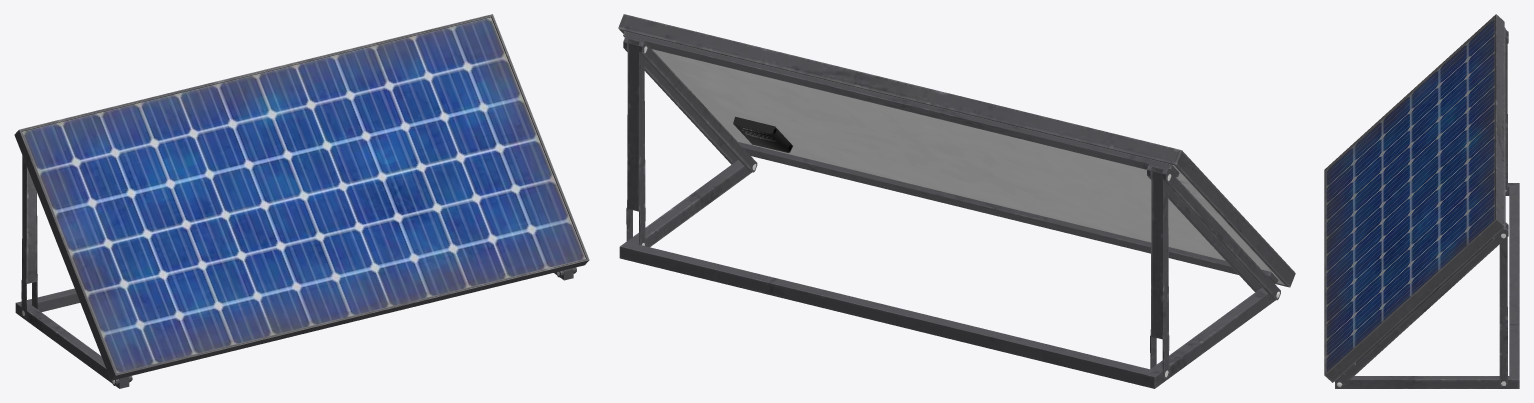
Rendered from solare.glb.
3 renders of one model, left to right at view 1: azimuth 30°, elevation 25°; view 2: azimuth 150°, elevation 25°; view 3: azimuth 270°, elevation 25°, orthographic. The views are drawn at different scales.
Visible parts, largest first — view 1: SolarPanel; view 2: SolarPanel; view 3: SolarPanel.
Boxes of the visible parts, x1,y1,x2,y2 form: SolarPanel: (14, 14, 589, 388); SolarPanel: (618, 14, 1295, 388); SolarPanel: (1324, 14, 1519, 388).
Bounding box in the file's own units: 165 × 65.13 × 66.43.
Materials: 1 (1 with a texture image).
